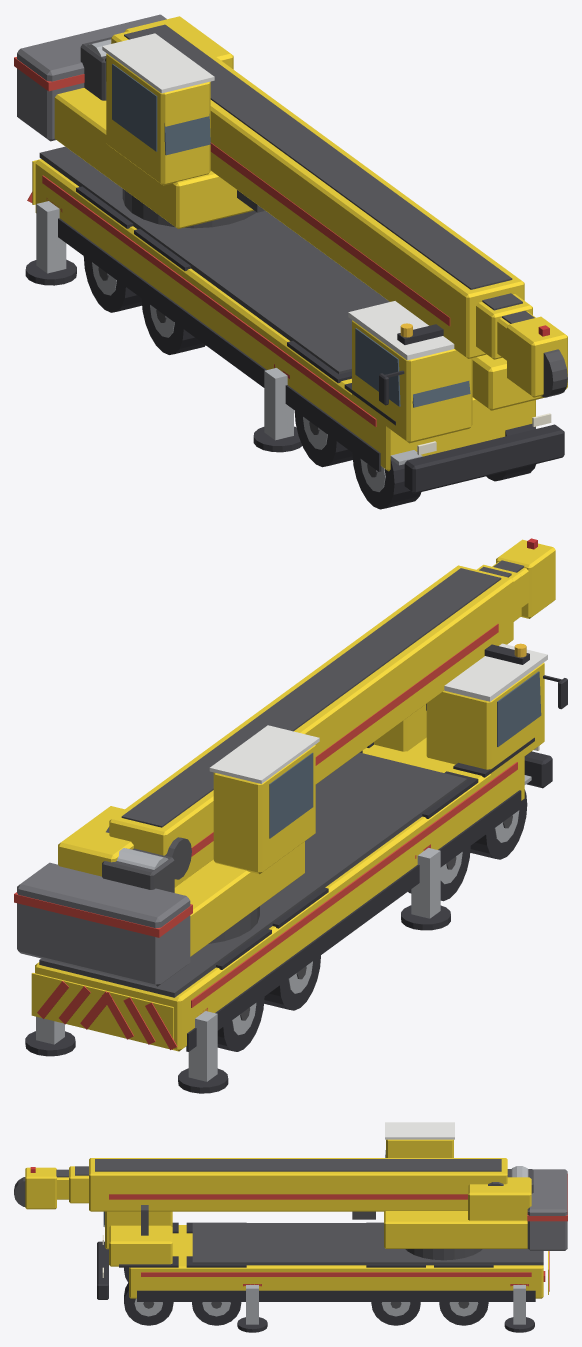
The model's file is crane_truck.glb.
3 renders of one model, top to bottom at view 1: azimuth 30°, elevation 25°; view 2: azimuth 150°, elevation 25°; view 3: azimuth 270°, elevation 25°, orthographic. The views are drawn at different scales.
Parts seen in each view (by area): view 1: boom_1_box, carrier_deck, carrier, boom_1_top, upper_frame, cab_shell, carrier_skirt, op_cab, bumper_f, counterweight, op_roof, head_plates (+23 smaller); view 2: boom_1_box, carrier_deck, counterweight, carrier, boom_1_top, op_cab, cab_shell, upper_frame, carrier_skirt, chevron, op_roof, hivis_band (+19 smaller); view 3: boom_1_box, carrier_deck, carrier, boom_1_top, upper_frame, carrier_skirt.001, counterweight, engine_hood, engine_box, boom_stripe, hivis_band.001, head_plates (+23 smaller).
Boxes of the visible parts, x1,y1,x2,y2 form: boom_1_box: (111,22,524,358); carrier_deck: (39,146,389,374); carrier: (35,159,535,471); boom_1_top: (124,24,512,289); upper_frame: (54,88,253,228); cab_shell: (352,320,472,443); carrier_skirt: (58,218,381,471); op_cab: (106,53,210,185); bumper_f: (404,424,564,493); counterweight: (17,14,166,141); op_roof: (102,33,214,93); head_plates: (507,316,567,397); boom_1_box: (109,565,513,887); carrier_deck: (39,752,467,997); counterweight: (17,862,190,986); carrier: (35,737,524,1051); boom_1_top: (121,568,501,827); op_cab: (213,745,315,874); cab_shell: (426,662,544,780); upper_frame: (174,841,304,956); carrier_skirt: (186,790,521,1051); chevron: (31,973,173,1049); op_roof: (209,725,319,783); hivis_band: (191,762,517,1007); boom_1_box: (89,1158,507,1211); carrier_deck: (192,1223,543,1265); carrier: (129,1225,543,1298); boom_1_top: (95,1159,501,1171); upper_frame: (384,1211,527,1248); carrier_skirt.001: (137,1290,535,1301); counterweight: (527,1169,567,1250); engine_hood: (109,1225,172,1266); engine_box: (468,1177,531,1220); boom_stripe: (109,1194,467,1199); hivis_band.001: (141,1272,531,1276); head_plates: (25,1167,56,1209).
Size of the model in its own units: 3.41 by 4.41 by 13.89.
